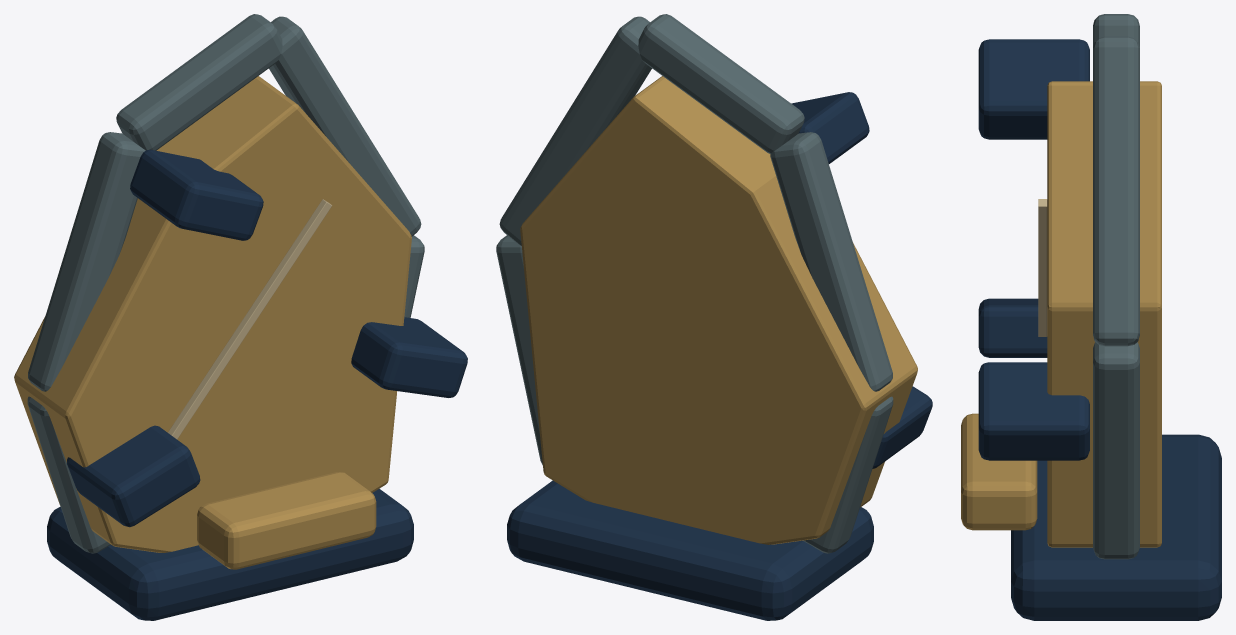
Rendered from LIGHT_SHIELD_CELL.hi.glb.
The picture shows the model from 3 angles, left to right: view 1: azimuth 30°, elevation 25°; view 2: azimuth 150°, elevation 25°; view 3: azimuth 270°, elevation 25°; orthographic projection. The views are drawn at different scales.
Visible parts, largest first — view 1: Body_Mesh; view 2: Body_Mesh; view 3: Body_Mesh.
Boxes of the visible parts, x1,y1,x2,y2 form: Body_Mesh: (14, 14, 467, 620); Body_Mesh: (496, 14, 932, 620); Body_Mesh: (961, 14, 1221, 620).
Size of the model in its own units: 0.7878 by 1.05 by 0.445.
